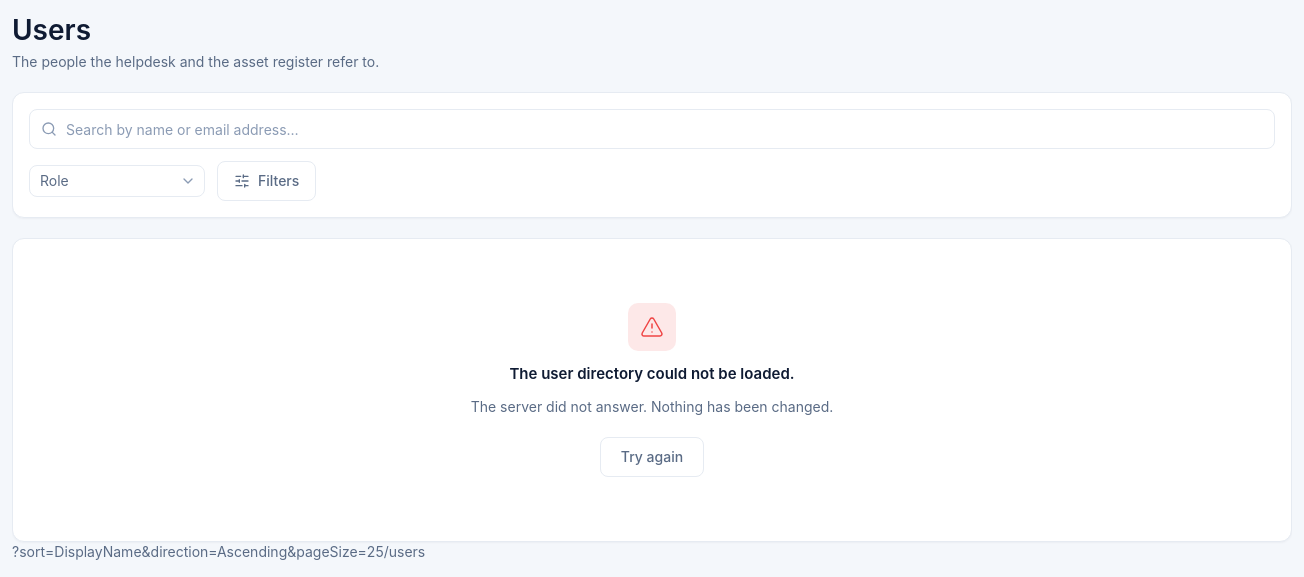
Scenario: UsersPage › offers a retry when the directory cannot be read
The width and height of the screenshot is (1304, 577).
expect the text "The user directory could not be loaded." is shown: met, box [510, 363, 795, 385]
Click the button "Try again": point(652, 457) [600, 437, 704, 477]
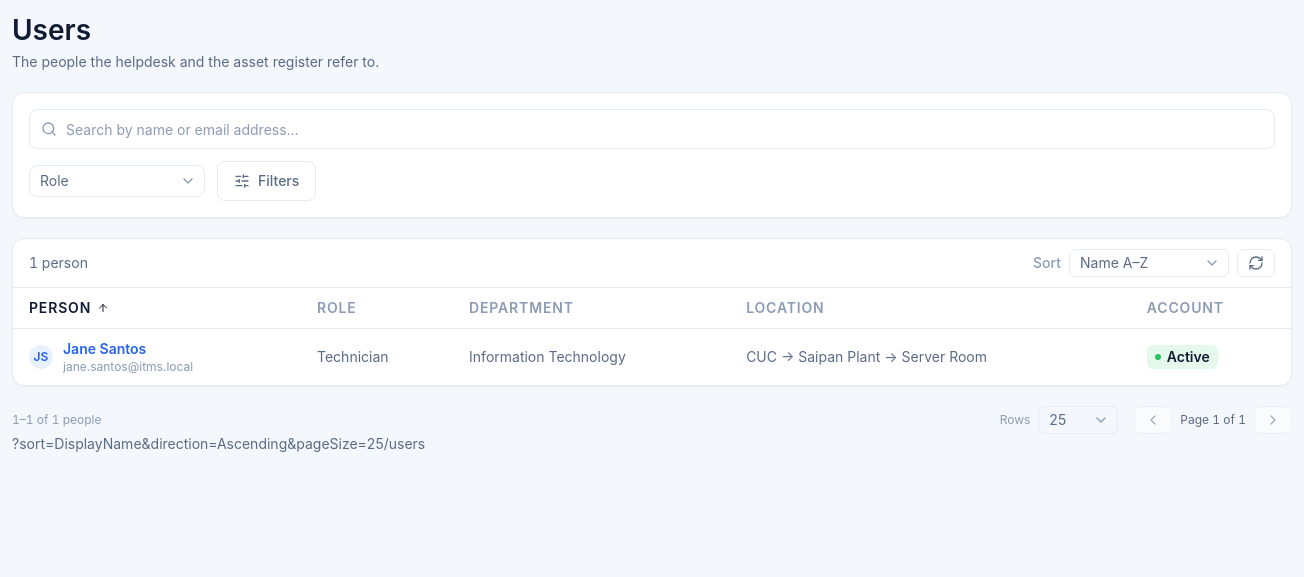
expect the button "Jane Santos" is shown: met, box [63, 338, 146, 358]
